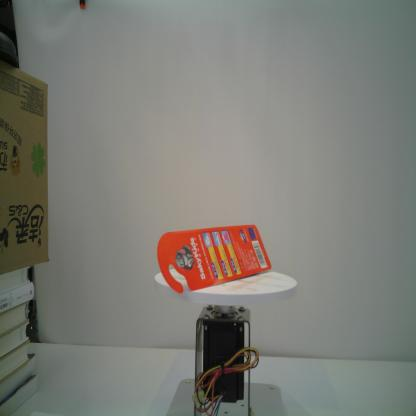Personal Hygiene: (157, 224, 272, 295)
